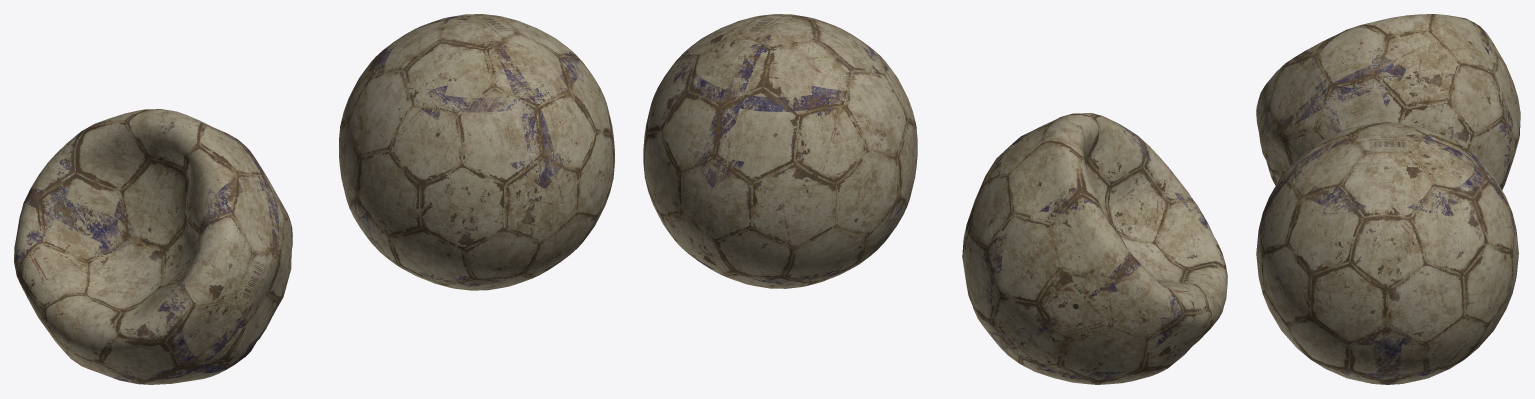
File: football.gltf
The picture shows the model from 3 angles, left to right: view 1: azimuth 30°, elevation 25°; view 2: azimuth 150°, elevation 25°; view 3: azimuth 270°, elevation 25°; orthographic projection. The views are drawn at different scales.
Visible parts, largest first — view 1: football_inflated, football_deflated; view 2: football_inflated, football_deflated; view 3: football_inflated, football_deflated.
Boxes of the visible parts, box(x1,y1,x2,y2) form: football_inflated: box(339, 14, 614, 290); football_deflated: box(14, 109, 292, 384); football_inflated: box(643, 14, 917, 288); football_deflated: box(962, 113, 1227, 384); football_inflated: box(1256, 122, 1518, 384); football_deflated: box(1256, 14, 1520, 189).
Size of the model in its own units: 0.5089 by 0.2219 by 0.2222.
1 material, 1 textured.
